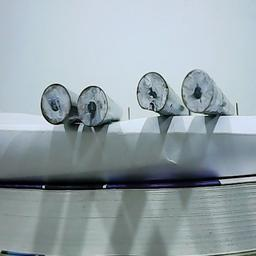pen: (38, 83, 71, 125), (76, 84, 109, 126), (135, 69, 168, 111), (181, 69, 214, 111)
